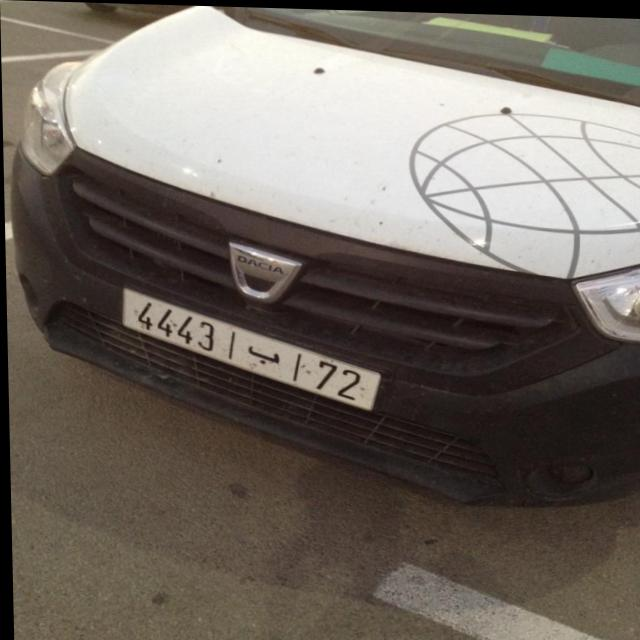License-Plate: (121, 288, 378, 408)
